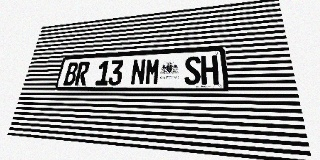1: (95, 60, 111, 85)
3: (108, 60, 124, 85)
B: (63, 62, 79, 86)
H: (201, 55, 219, 85)
M: (144, 58, 160, 85)
N: (130, 59, 146, 85)
R: (74, 61, 90, 86)
S: (184, 56, 201, 85)
